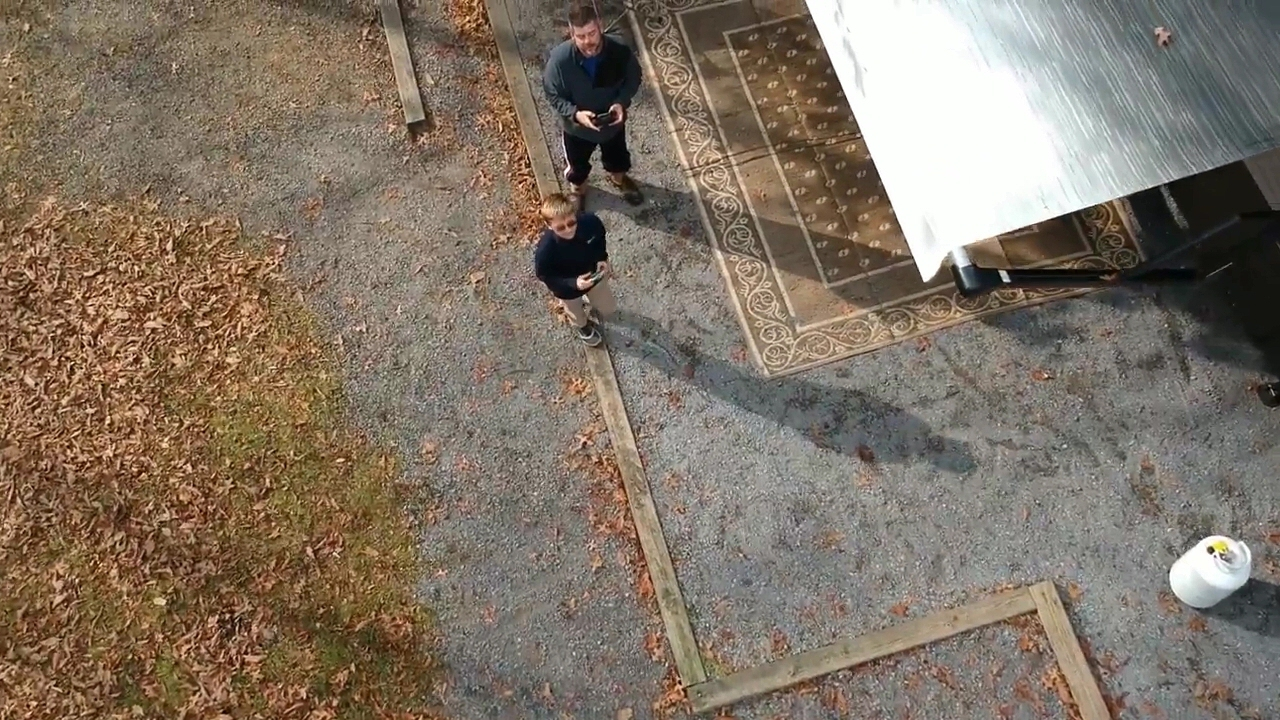insan: (538, 2, 655, 207), (533, 177, 620, 363)
